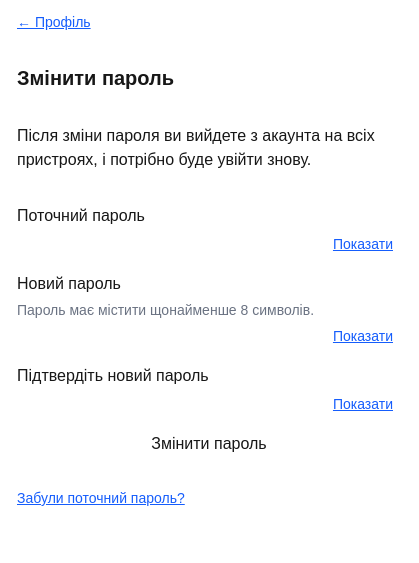
it: ChangePasswordForm › test_error_shows_its_fixed_message_(429)
Type "correct-horse-battery" into the password field labelled "Поточний пароль" at (209, 244), box x1=17 y1=232 x2=401 y2=256
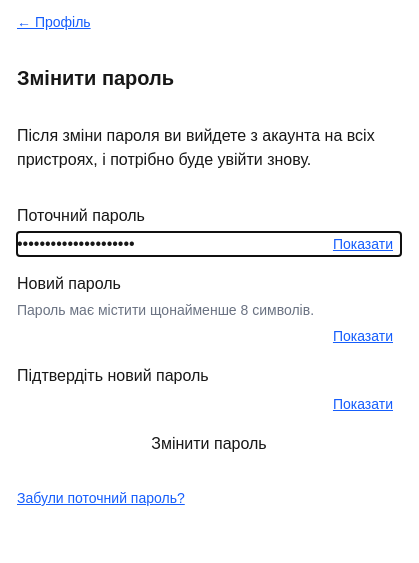
Type "staple-new-horse-battery" into the password field labelled "Новий пароль" at (209, 336), box x1=17 y1=324 x2=401 y2=348
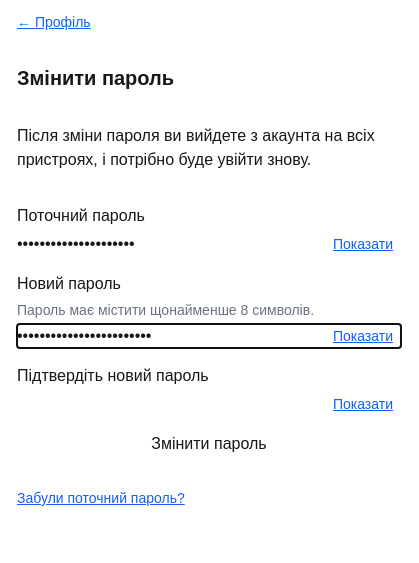
Type "staple-new-horse-battery" into the password field labelled "Підтвердіть новий пароль" at (209, 404), box x1=17 y1=392 x2=401 y2=416
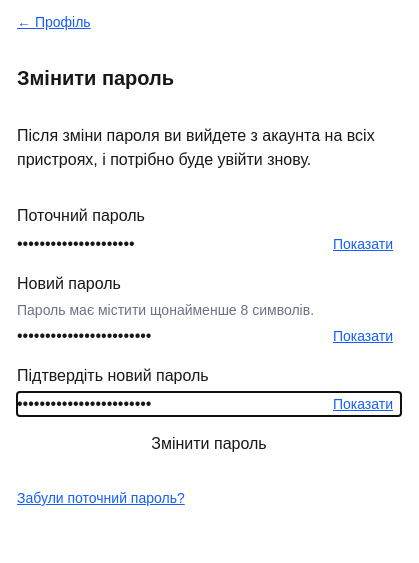
Click the button "Змінити пароль" at (209, 444), box x1=17 y1=432 x2=401 y2=456
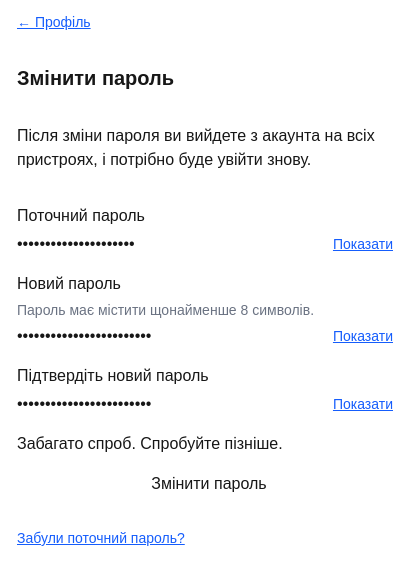
expect the message does not show "Request was throttled.": met, box x1=17 y1=435 x2=283 y2=452
expect the message reads "Забагато спроб. Спробуйте пізніше.": met, box x1=17 y1=435 x2=283 y2=452
